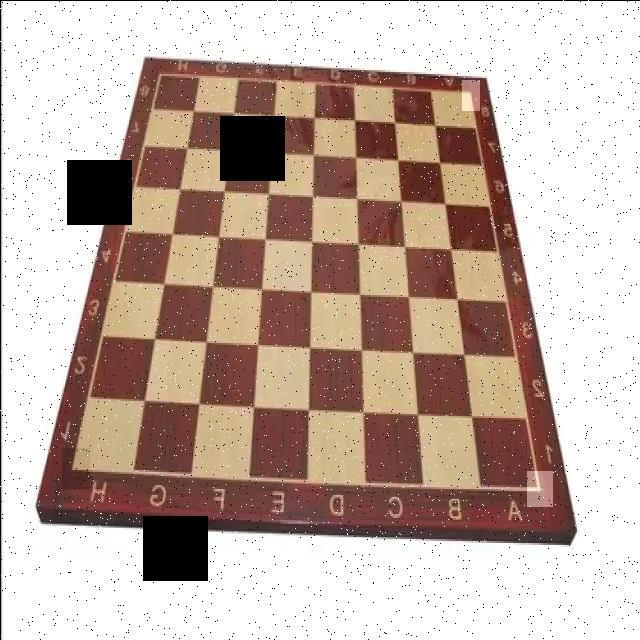chess-table-corners: (61, 447, 89, 488), (526, 470, 552, 506), (152, 60, 172, 90), (461, 79, 479, 110)
